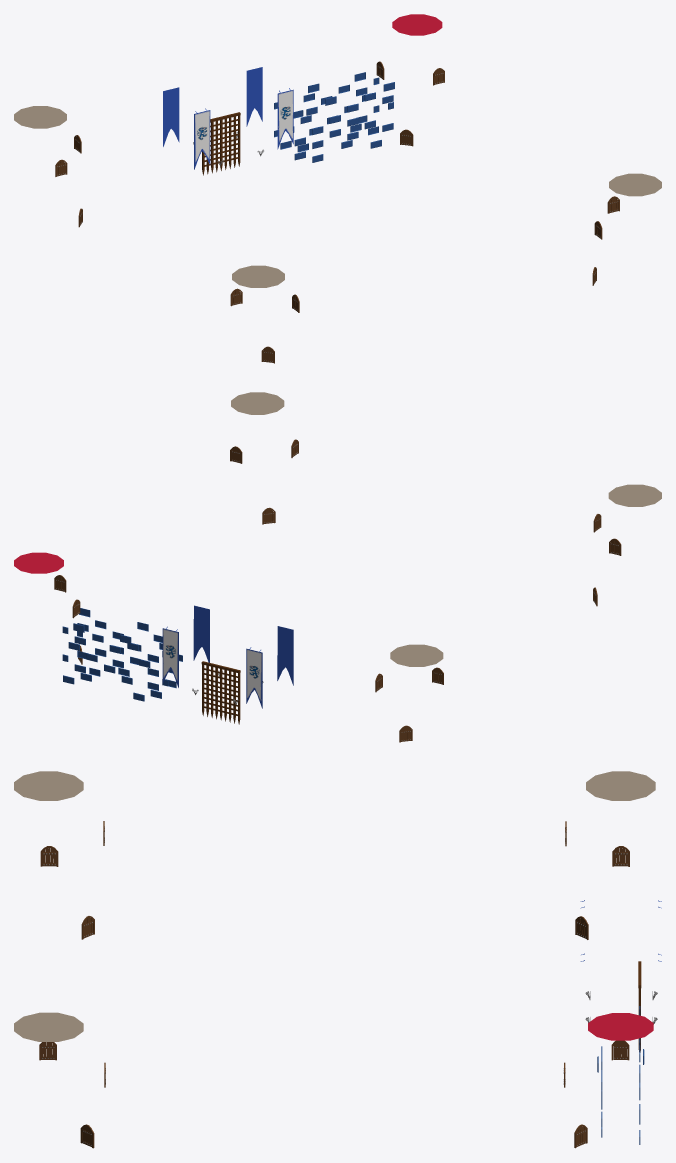
Rendered from exteriorwalls.glb.
3 views of the same model, one above another, from view 1: azimuth 30°, elevation 25°; view 2: azimuth 150°, elevation 25°; view 3: azimuth 270°, elevation 25° (orthographic). The views are drawn at different scales.
Visible parts, largest first — view 1: Wall.Secondary1, Gate.WoodPortcullis.Passable, Turret.BackLeft.Cap.Floors2, Turret.BackRight.Cap.Floors2, Turret.FrontRight.Cap.Floors2, Turret.FrontLeft.Cap.Floors, Flag.Vertical9, Flag.Vertical10, Flag.Vertical1, Flag.Vertical2; view 2: Wall.Secondary1, Gate.WoodPortcullis.Passable, Turret.FrontRight.Cap.Floors2, Turret.BackRight.Cap.Floors2, Turret.BackLeft.Cap.Floors2, Turret.FrontLeft.Cap.Floors, Flag.Vertical1, Flag.Vertical2, Flag.Vertical10, Flag.Vertical9; view 3: Turret.BackLeft.Cap.Floors2, Turret.FrontRight.Cap.Floors2, Turret.BackRight.Cap.Floors2, Turret.FrontLeft.Cap.Floors.
Part boxes in pixels (bbox=[...]): Wall.Secondary1: bbox=[274, 72, 394, 162]; Gate.WoodPortcullis.Passable: bbox=[202, 112, 240, 175]; Turret.BackLeft.Cap.Floors2: bbox=[609, 173, 661, 196]; Turret.BackRight.Cap.Floors2: bbox=[232, 265, 284, 287]; Turret.FrontRight.Cap.Floors2: bbox=[14, 106, 66, 128]; Turret.FrontLeft.Cap.Floors: bbox=[392, 14, 442, 35]; Flag.Vertical9: bbox=[277, 88, 293, 149]; Flag.Vertical10: bbox=[194, 108, 210, 169]; Flag.Vertical1: bbox=[246, 67, 262, 126]; Flag.Vertical2: bbox=[163, 87, 179, 146]; Wall.Secondary1: bbox=[62, 608, 182, 701]; Gate.WoodPortcullis.Passable: bbox=[201, 661, 240, 724]; Turret.FrontRight.Cap.Floors2: bbox=[390, 644, 443, 666]; Turret.BackRight.Cap.Floors2: bbox=[608, 484, 661, 506]; Turret.BackLeft.Cap.Floors2: bbox=[231, 392, 284, 414]; Turret.FrontLeft.Cap.Floors: bbox=[14, 552, 63, 573]; Flag.Vertical1: bbox=[162, 626, 178, 687]; Flag.Vertical2: bbox=[246, 647, 262, 708]; Flag.Vertical10: bbox=[277, 626, 293, 685]; Flag.Vertical9: bbox=[193, 605, 209, 662]; Turret.BackLeft.Cap.Floors2: bbox=[14, 1012, 83, 1041]; Turret.FrontRight.Cap.Floors2: bbox=[586, 771, 655, 800]; Turret.BackRight.Cap.Floors2: bbox=[14, 771, 83, 800]; Turret.FrontLeft.Cap.Floors: bbox=[588, 1013, 653, 1040].
Size of what is drawn, in the model's own units: 12.06 by 2.88 by 12.21.
5 materials, 3 textured.
